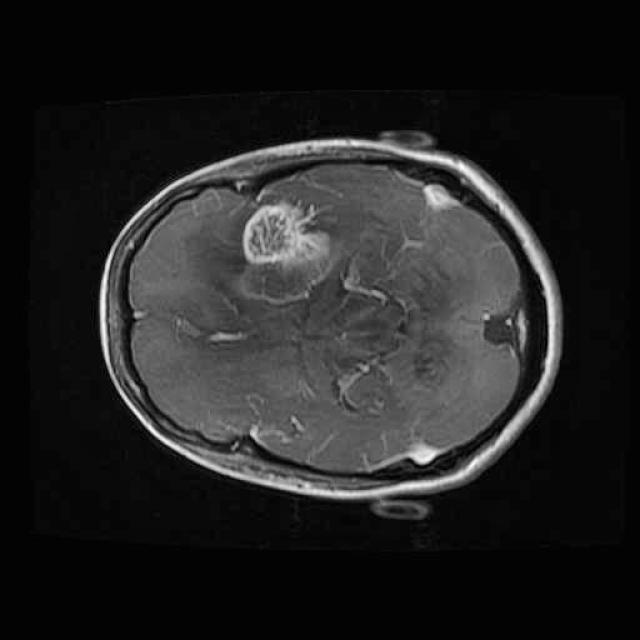Tumor: (230, 192, 341, 308)
